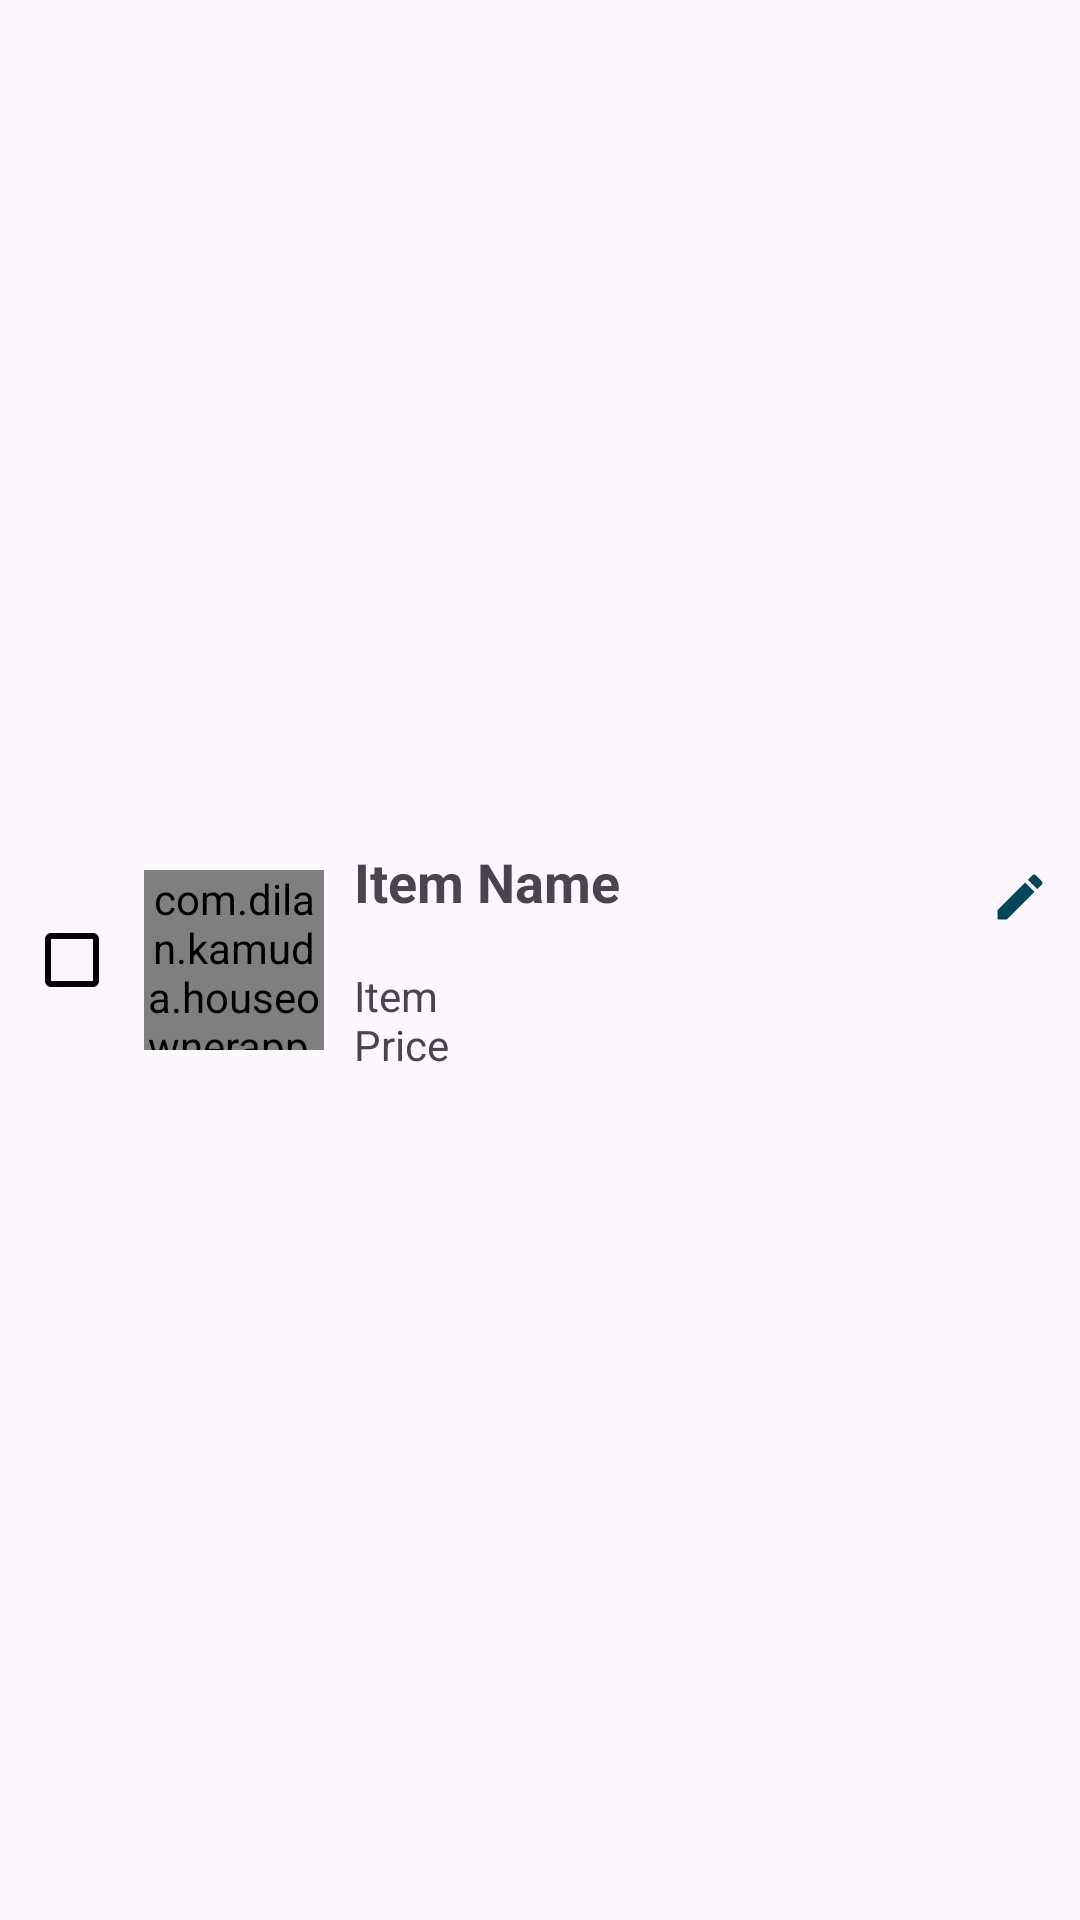

Locate icon controls on the screen. Image size 1080w x 1920h, boxes as (x1, y1, x2, y2).
edit: (997, 874, 1043, 920)
